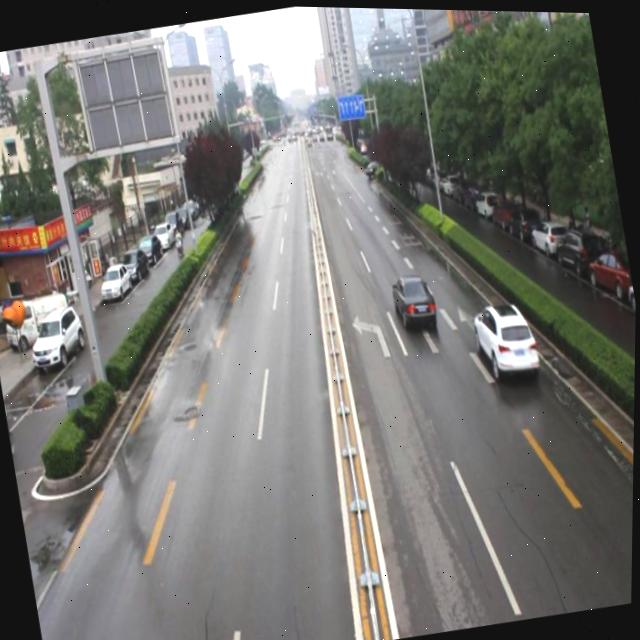car: (466, 292, 543, 386), (387, 268, 439, 332), (363, 157, 379, 177)
